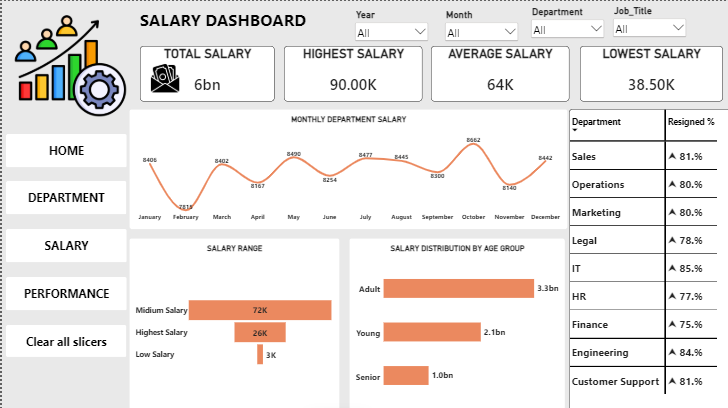

This screenshot's page, from the dashboard's own definition file:
{"tool":"powerbi","page":{"name":"SALARY","canvas":[1920,1080],"ordinal":3},"visuals":[{"type":"image","box":[20,20,318.1,299.5],"z":0},{"type":"actionButton","box":[10,349,318.1,88.2],"z":1000},{"type":"actionButton","box":[10,473.8,317.2,87.9],"z":2000},{"type":"actionButton","box":[10,599.7,318.1,88.2],"z":3000},{"type":"actionButton","box":[10,727.2,318.1,88.2],"z":4000},{"type":"actionButton","box":[10,853.1,317.2,84.5],"z":5000},{"type":"group","id":"g1","title":"Group 5","box":[364,118,356,146],"z":6000},{"type":"textbox","box":[364,20,458,98],"z":7000},{"type":"card","title":"AVERAGE SALARY","fields":{"Values":["KPI.Average Salary"]},"box":[1128,118,364,146],"z":8000},{"type":"card","title":"HIGHEST SALARY","fields":{"Values":["KPI.Highest Salary"]},"box":[742,118,364,146],"z":9000},{"type":"card","title":"LOWEST SALARY","fields":{"Values":["KPI.Lowest Salary"]},"box":[1520,118,376,146],"z":10000},{"type":"card","title":"TOTAL SALARY","fields":{"Values":["KPI.Total Salary"]},"box":[364,118,354.3,145.7],"z":11000,"group":"g1"},{"type":"lineChart","title":"MONTHLY DEPARTMENT SALARY","fields":{"Category":["Employee.Hire_Date.Variation.Date Hierarchy.Month"],"Y":["CountNonNull(Employee.Department)"]},"box":[333.3,283.3,1154.8,316.7],"z":11000},{"type":"slicer","fields":{"Values":["Employee.Hire_Date.Variation.Date Hierarchy.Year"]},"box":[923.3,20,202.9,100],"z":12000},{"type":"image","box":[364,163.7,132.9,80],"z":12000,"group":"g1"},{"type":"slicer","fields":{"Values":["Employee.Hire_Date.Variation.Date Hierarchy.Month"]},"box":[1160,20,203,103],"z":13000},{"type":"slicer","fields":{"Values":["Employee.Department"]},"box":[1386.7,13.3,203.3,113.3],"z":14000},{"type":"slicer","fields":{"Values":["Employee.Job_Title"]},"box":[1603.3,10,203.3,113.3],"z":15000},{"type":"clusteredBarChart","title":"SALARY DISTRIBUTION BY AGE GROUP","fields":{"Category":["Employee.Age Groups"],"Y":["KPI.Total Salary"]},"box":[911.9,623.8,569,457.1],"z":16000},{"type":"funnel","title":"SALARY RANGE","fields":{"Category":["Education.Salary Range"],"Y":["KPI.Total Employee"]},"box":[333.3,623.8,554.8,457.1],"z":17000},{"type":"tableEx","fields":{"Values":["Employee.Department","KPI.Resigned %"]},"box":[1492.9,283.3,426.2,797.6],"z":18000}]}

Visuals, with their boxes in screenshot pixels (x1, y1, x2, y2), scaled from the page's 1920x1080 canvas onto the 728x408 screenshot:
image: (x1=8, y1=8, x2=128, y2=121)
actionButton: (x1=4, y1=132, x2=124, y2=165)
actionButton: (x1=4, y1=179, x2=124, y2=212)
actionButton: (x1=4, y1=227, x2=124, y2=260)
actionButton: (x1=4, y1=275, x2=124, y2=308)
actionButton: (x1=4, y1=322, x2=124, y2=354)
"Group 5" group: (x1=138, y1=45, x2=273, y2=100)
textbox: (x1=138, y1=8, x2=312, y2=45)
"AVERAGE SALARY" card: (x1=428, y1=45, x2=566, y2=100)
"HIGHEST SALARY" card: (x1=281, y1=45, x2=419, y2=100)
"LOWEST SALARY" card: (x1=576, y1=45, x2=719, y2=100)
"TOTAL SALARY" card: (x1=138, y1=45, x2=272, y2=100)
"MONTHLY DEPARTMENT SALARY" lineChart: (x1=126, y1=107, x2=564, y2=227)
slicer - Employee.Hire_Date.Variation.Date Hierarchy.Year: (x1=350, y1=8, x2=427, y2=45)
image: (x1=138, y1=62, x2=188, y2=92)
slicer - Employee.Hire_Date.Variation.Date Hierarchy.Month: (x1=440, y1=8, x2=517, y2=46)
slicer - Employee.Department: (x1=526, y1=5, x2=603, y2=48)
slicer - Employee.Job_Title: (x1=608, y1=4, x2=685, y2=47)
"SALARY DISTRIBUTION BY AGE GROUP" clusteredBarChart: (x1=346, y1=236, x2=562, y2=407)
"SALARY RANGE" funnel: (x1=126, y1=236, x2=337, y2=407)
tableEx - Employee.Department x KPI.Resigned %: (x1=566, y1=107, x2=727, y2=407)
